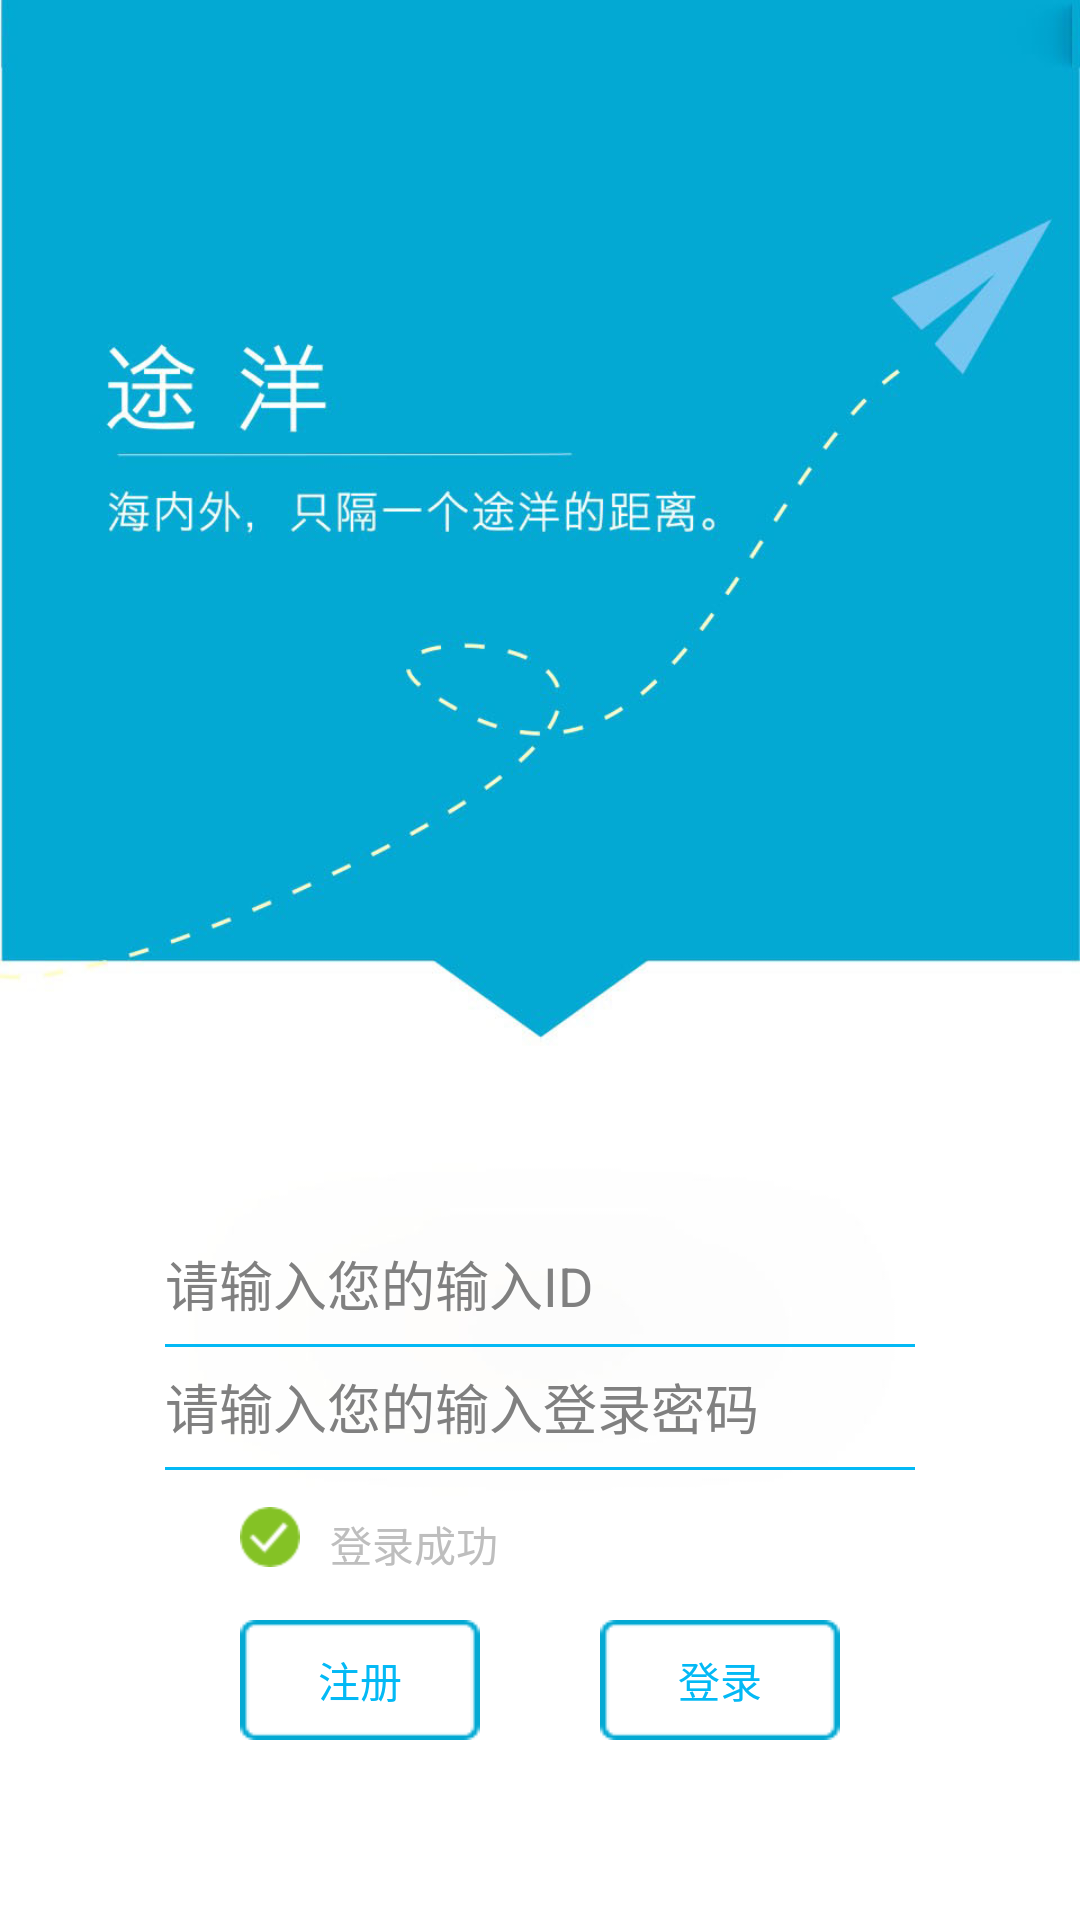

Icons on this 1080 × 1920 Android screen, each with its box as (x1, y1, x2, y2):
login checked success: (240, 1507, 300, 1567)
